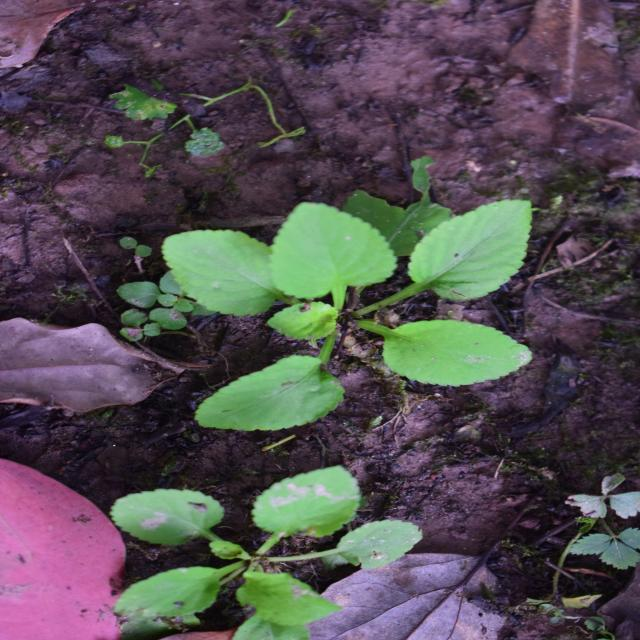Viola: (179, 88, 439, 468), (453, 232, 632, 529)
